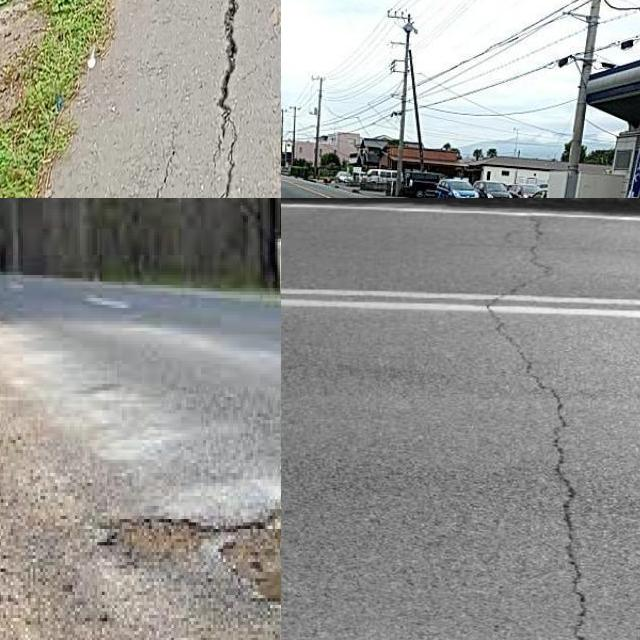Lubang: (92, 520, 212, 570), (231, 509, 281, 611)
Memanjang: (472, 215, 614, 640), (203, 0, 250, 198)
